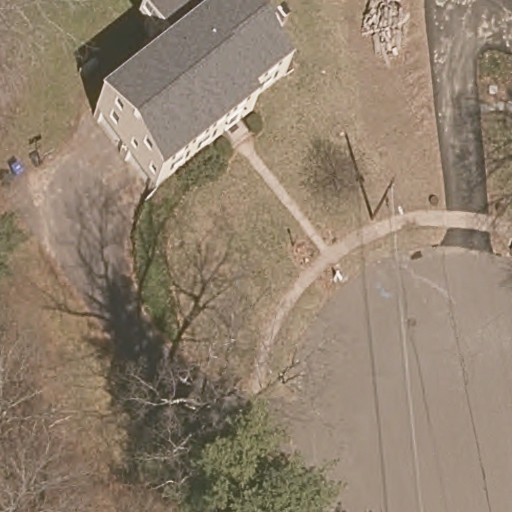DT: (370, 175, 398, 222)
